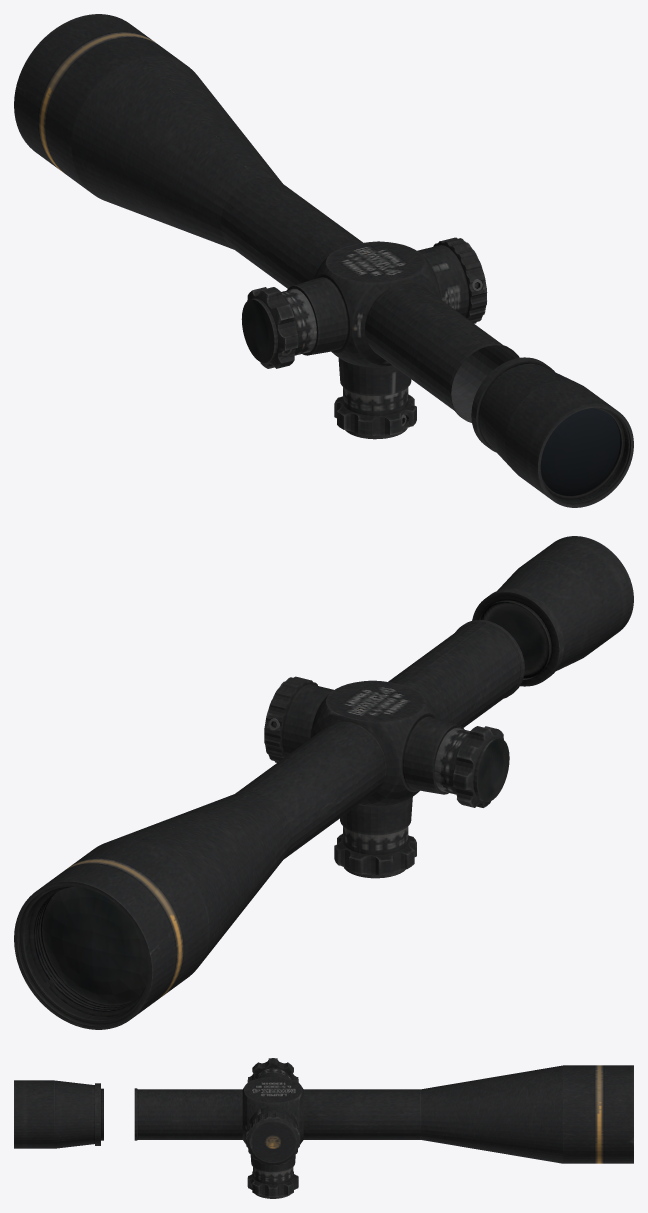
The picture shows the model from 3 angles, top to bottom: view 1: azimuth 30°, elevation 25°; view 2: azimuth 150°, elevation 25°; view 3: azimuth 270°, elevation 25°; orthographic projection. The views are drawn at different scales.
Visible parts, largest first — view 1: TW_5a37cb10c4a282329a73b4e7_PZ_Import; view 2: TW_5a37cb10c4a282329a73b4e7_PZ_Import; view 3: TW_5a37cb10c4a282329a73b4e7_PZ_Import.
Boxes of the visible parts, x1=… form: TW_5a37cb10c4a282329a73b4e7_PZ_Import: x1=14, y1=14, x2=633, y2=507; TW_5a37cb10c4a282329a73b4e7_PZ_Import: x1=14, y1=536, x2=633, y2=1029; TW_5a37cb10c4a282329a73b4e7_PZ_Import: x1=14, y1=1058, x2=633, y2=1198.
Size of the model in its own units: 0.0512 by 0.2129 by 0.0456.
Materials: 1 (1 with a texture image).
